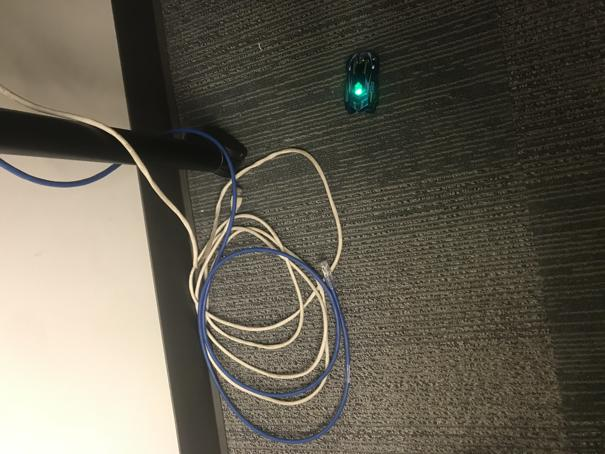Shock: (344, 48, 379, 116)
